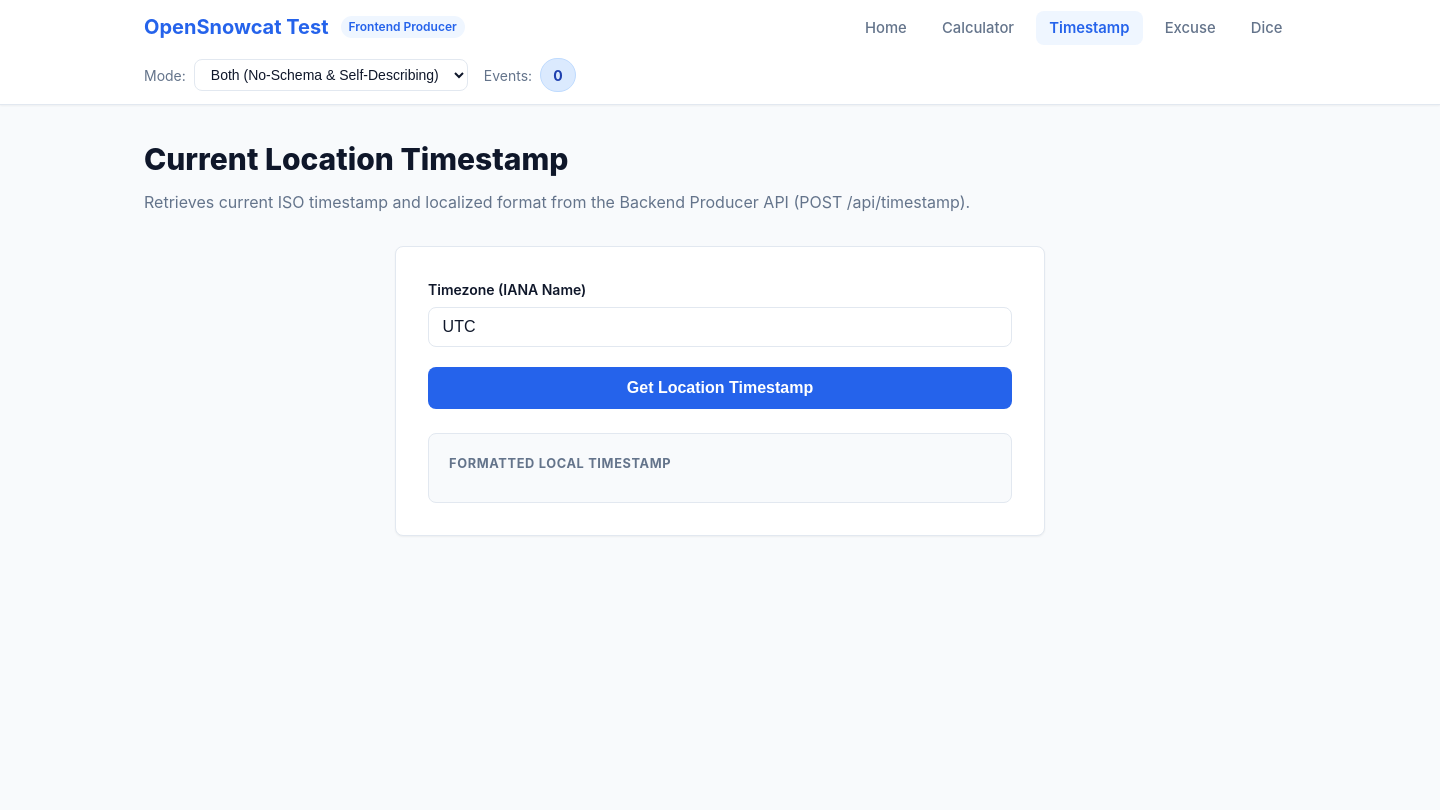
Test: Timestamp Service - End-to-End Integration › completes timestamp user journey with custom timezone override: input -> API POST -> DOM update -> dual emission
The image size is (1440, 810).
Custom timezone override
Replace the text in the field with test id "timestamp-input-tz" with "Europe/London" at (720, 327), box [428,307,1012,347]
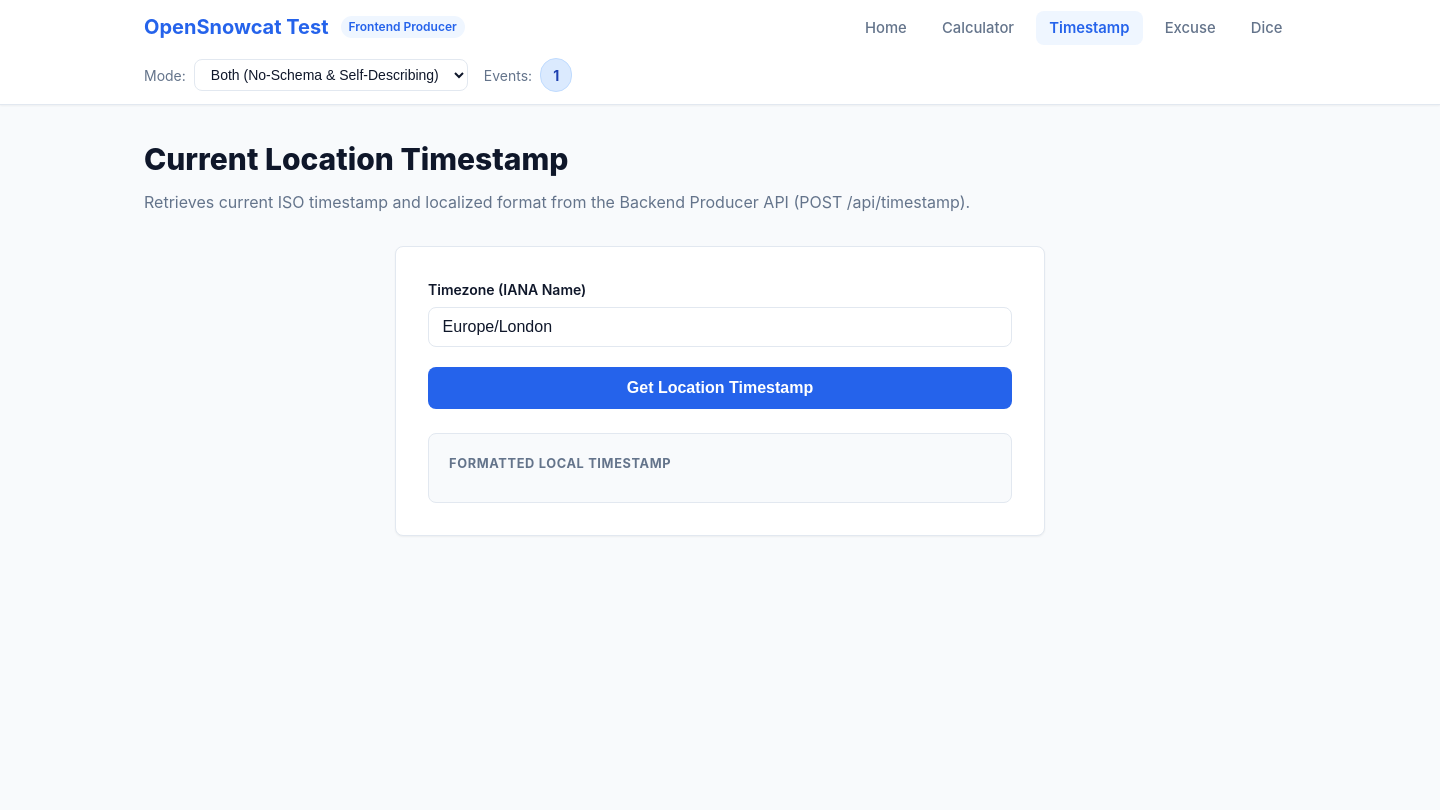
Click the button with test id "btn-timestamp-fetch" at (720, 388), box [428,367,1012,409]
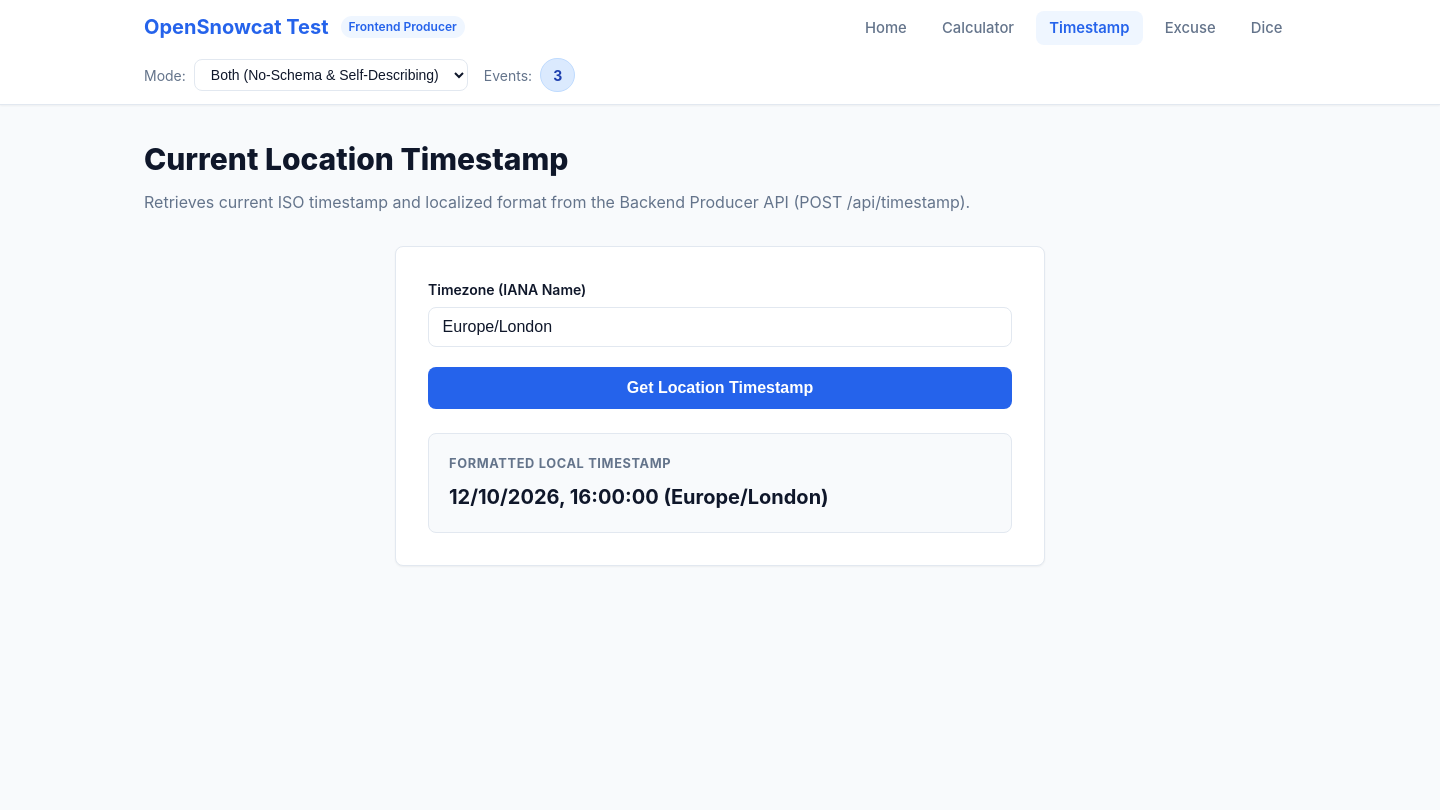
Result: the text with test id "timestamp-result" reads "12/10/2026, 16:00:00 (Europe/London)" at [449,484,829,508]
Result: the text with test id "frontend-events-counter" reads "3" at [553,67,562,84]
